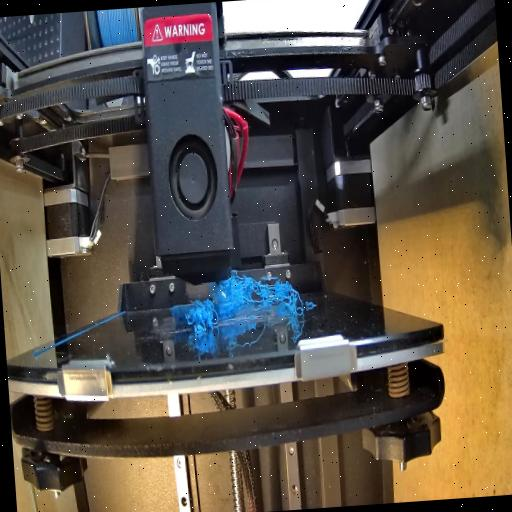spaghetti: (215, 276, 306, 320), (184, 304, 216, 334)
